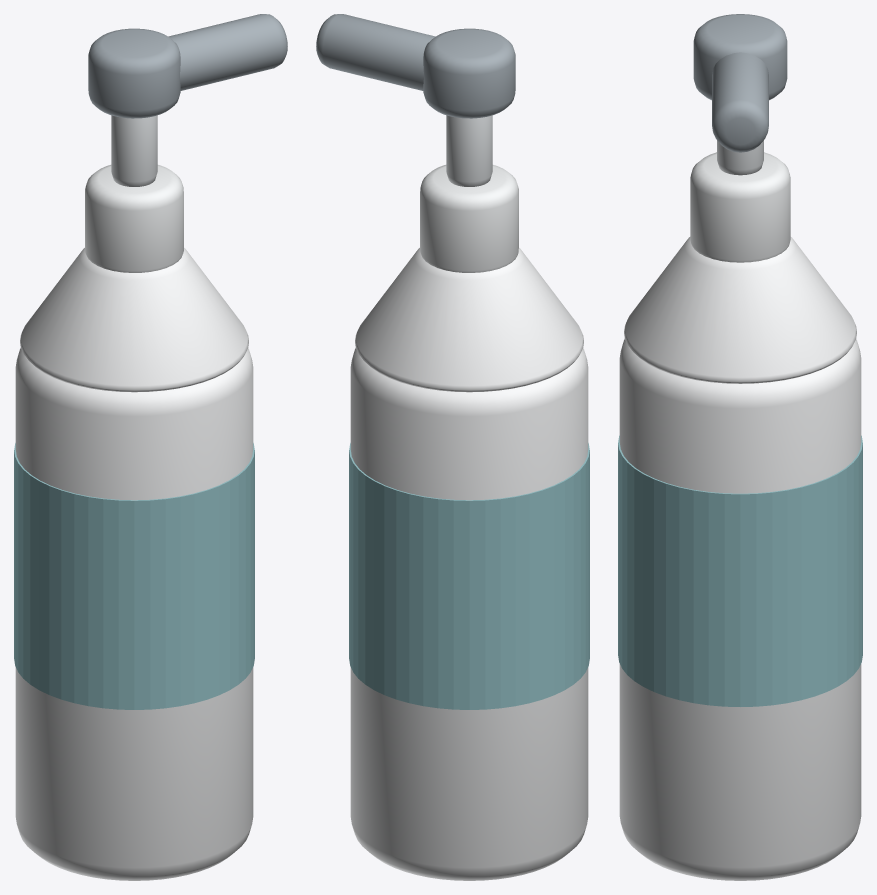
Rendered from sanitizer_bottle.glb.
3 renders of one model, left to right at view 1: azimuth 30°, elevation 25°; view 2: azimuth 150°, elevation 25°; view 3: azimuth 270°, elevation 25°, orthographic.
Visible parts, largest first — view 1: Cylinder, Cylinder.003, Cone, Cylinder.001, PUMP_HEAD, PUMP_NOZZLE, Cylinder.002; view 2: Cylinder, Cylinder.003, Cone, Cylinder.001, PUMP_HEAD, PUMP_NOZZLE, Cylinder.002; view 3: Cylinder, Cylinder.003, Cone, Cylinder.001, PUMP_NOZZLE, PUMP_HEAD, Cylinder.002.
Boxes of the visible parts, left/top/right/bottom form: Cylinder: left=15, top=348, right=253, bottom=880; Cylinder.003: left=14, top=443, right=254, bottom=709; Cone: left=20, top=248, right=248, bottom=392; Cylinder.001: left=85, top=165, right=183, bottom=272; PUMP_HEAD: left=88, top=28, right=180, bottom=118; PUMP_NOZZLE: left=168, top=14, right=287, bottom=90; Cylinder.002: left=111, top=115, right=157, bottom=186; Cylinder: left=350, top=348, right=588, bottom=880; Cylinder.003: left=349, top=443, right=589, bottom=709; Cone: left=355, top=248, right=583, bottom=392; Cylinder.001: left=420, top=165, right=518, bottom=272; PUMP_HEAD: left=423, top=28, right=515, bottom=118; PUMP_NOZZLE: left=316, top=14, right=435, bottom=90; Cylinder.002: left=446, top=115, right=492, bottom=186; Cylinder: left=619, top=339, right=861, bottom=880; Cylinder.003: left=618, top=435, right=862, bottom=706; Cone: left=624, top=237, right=856, bottom=383; Cylinder.001: left=690, top=152, right=790, bottom=262; PUMP_NOZZLE: left=712, top=52, right=768, bottom=152; PUMP_HEAD: left=693, top=14, right=787, bottom=100; Cylinder.002: left=717, top=140, right=763, bottom=175.
Size of the model in its own units: 0.087 by 0.266 by 0.073.
